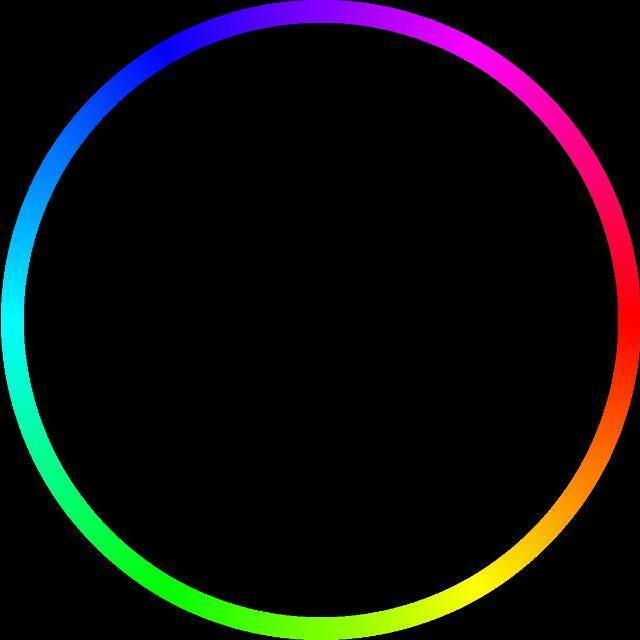Circle: (2, 3, 634, 640)
